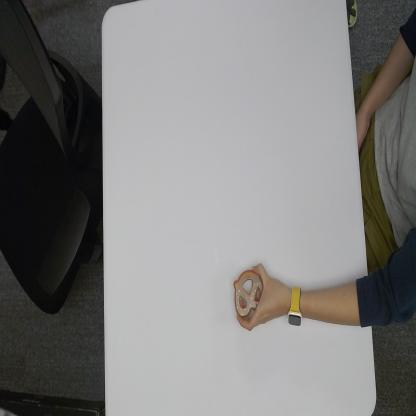Arm: (305, 222, 416, 330)
Hand: (236, 262, 286, 334)
Pretzel: (233, 268, 264, 320)
